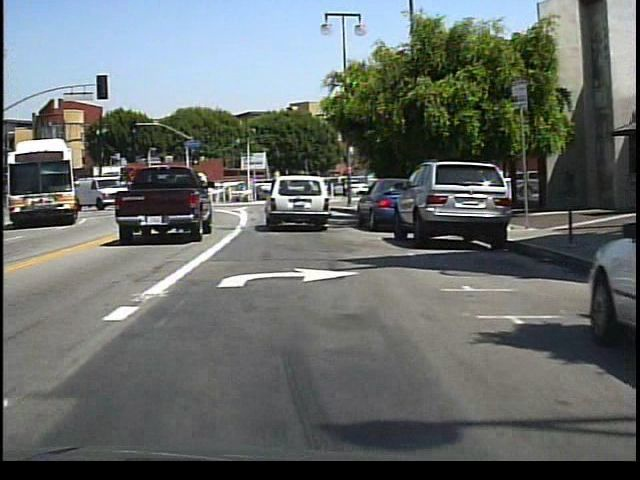person: (341, 177, 350, 203)
